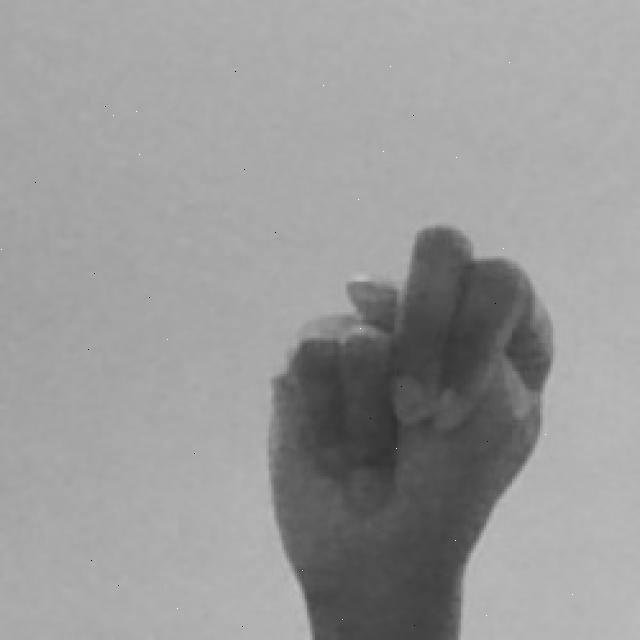N: (257, 220, 570, 640)
